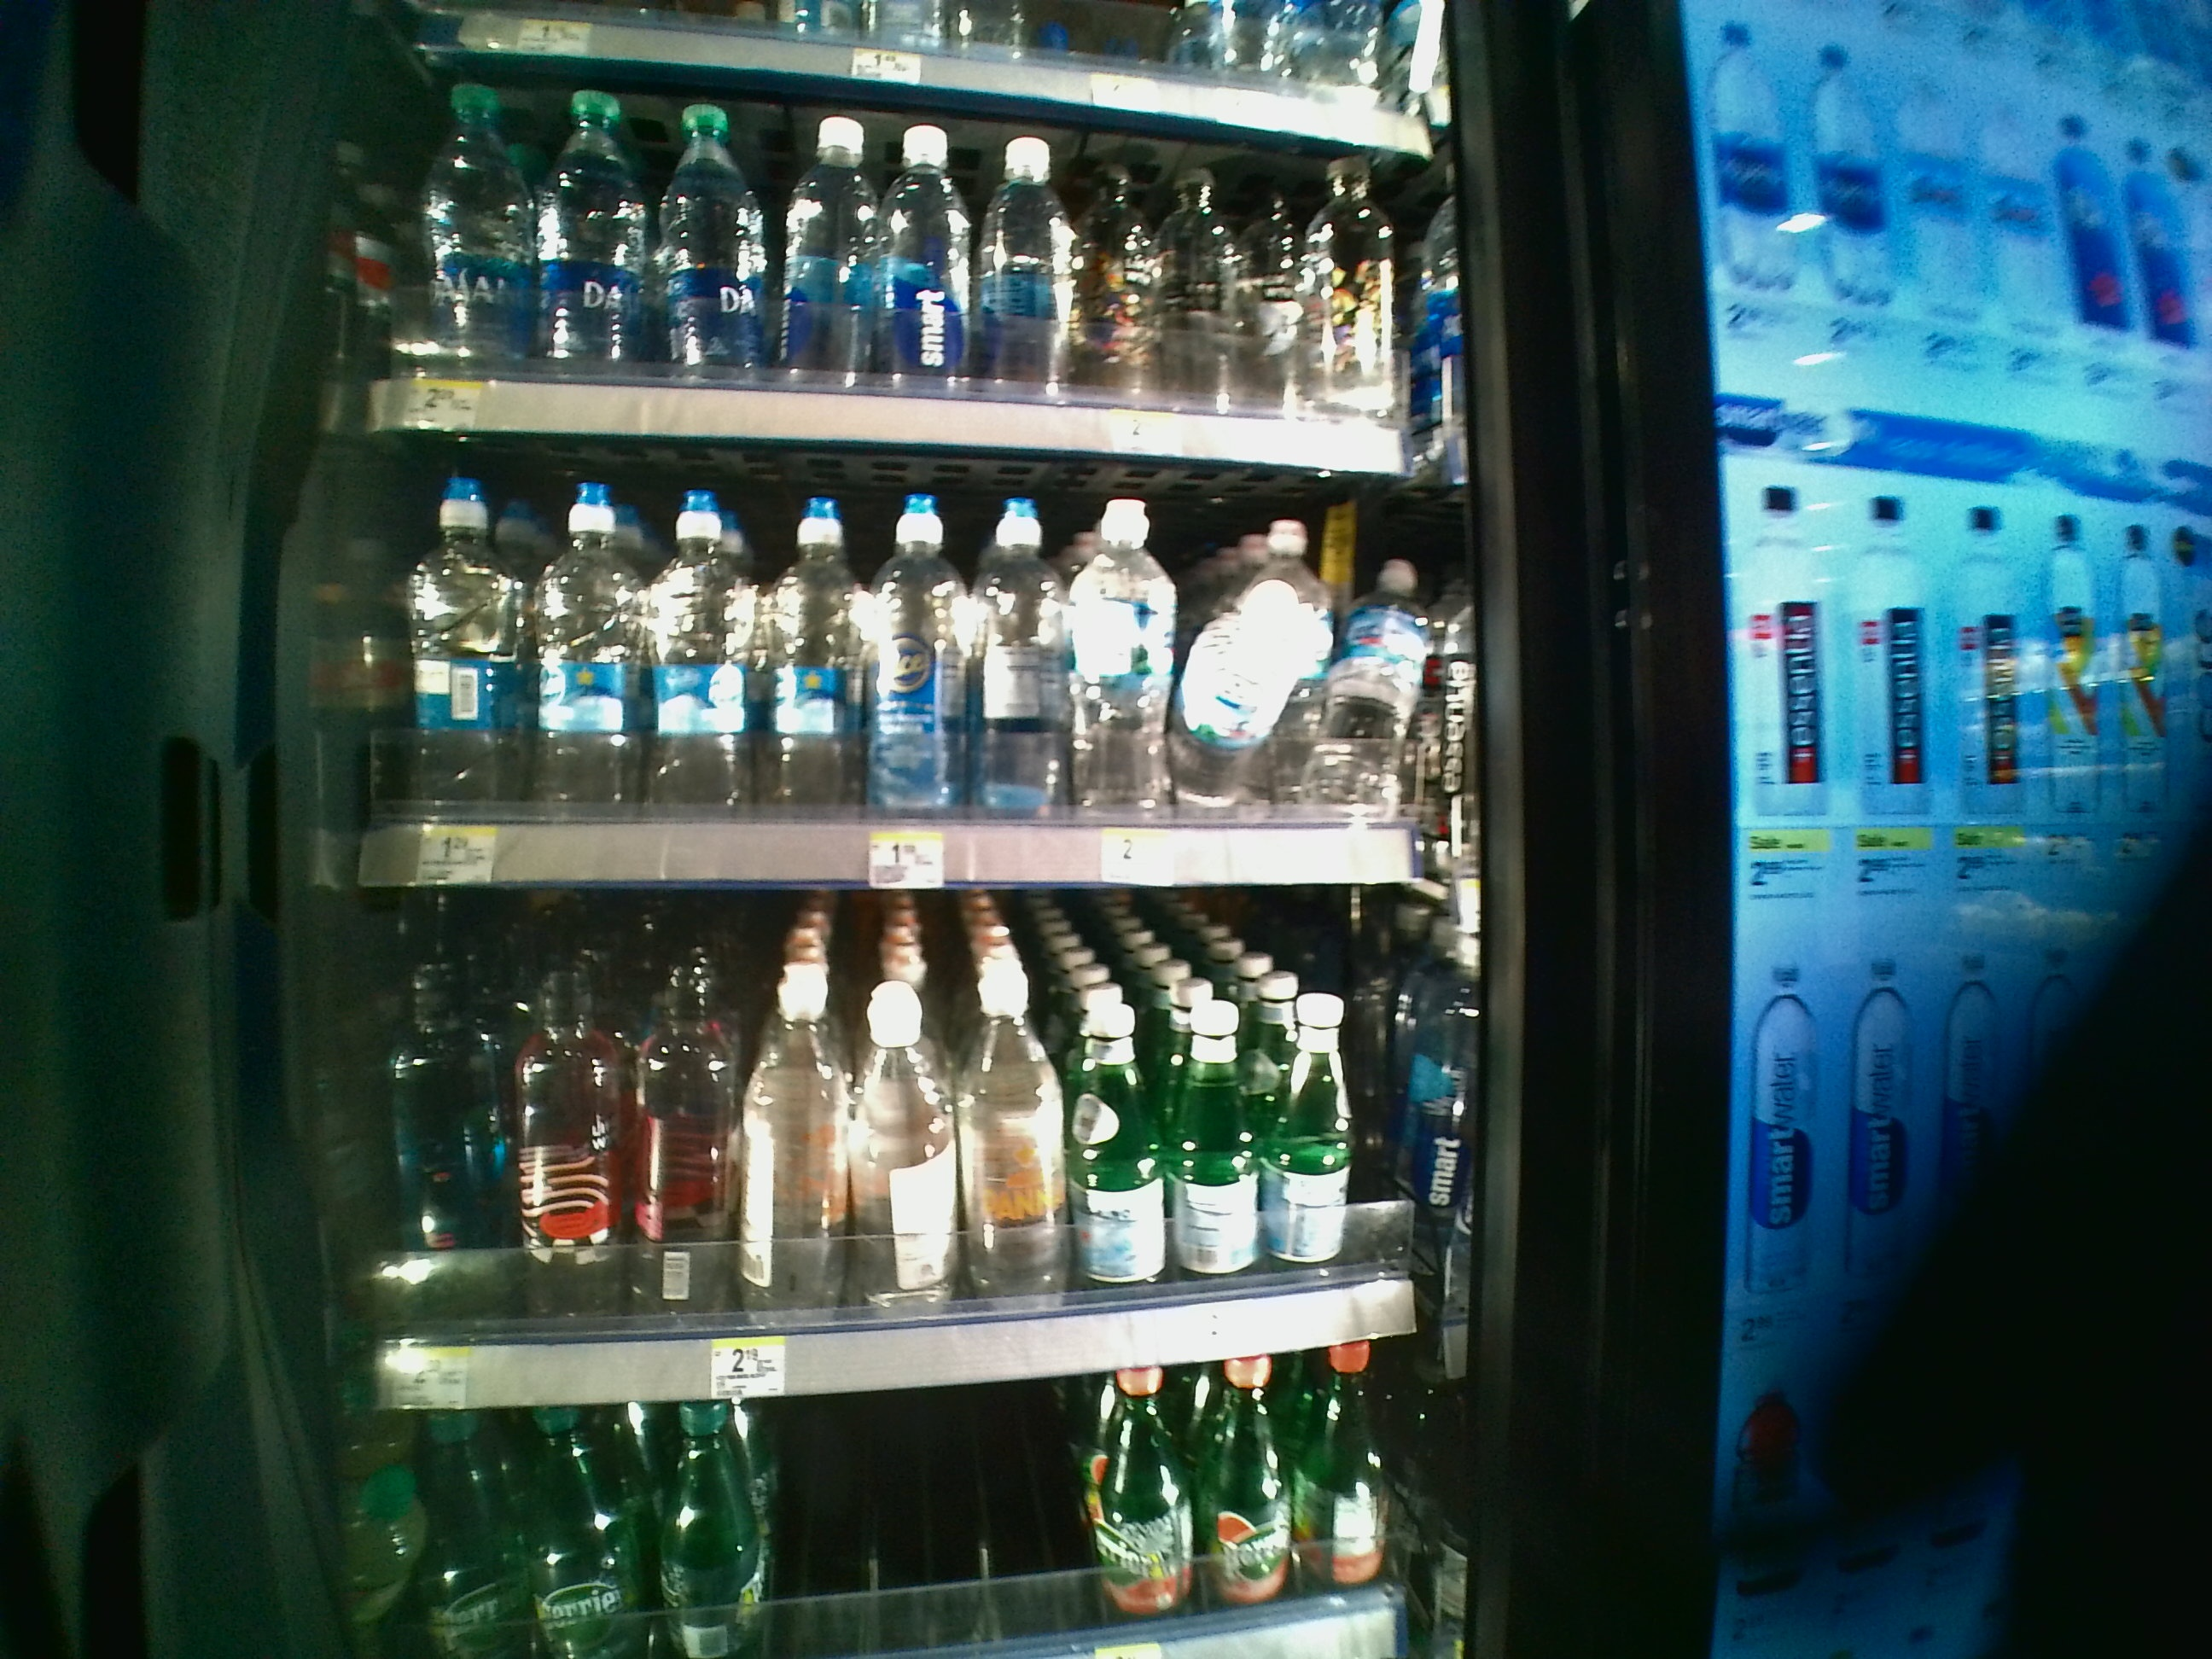Shelf: (334, 899, 1514, 1417), (336, 430, 1501, 903)
